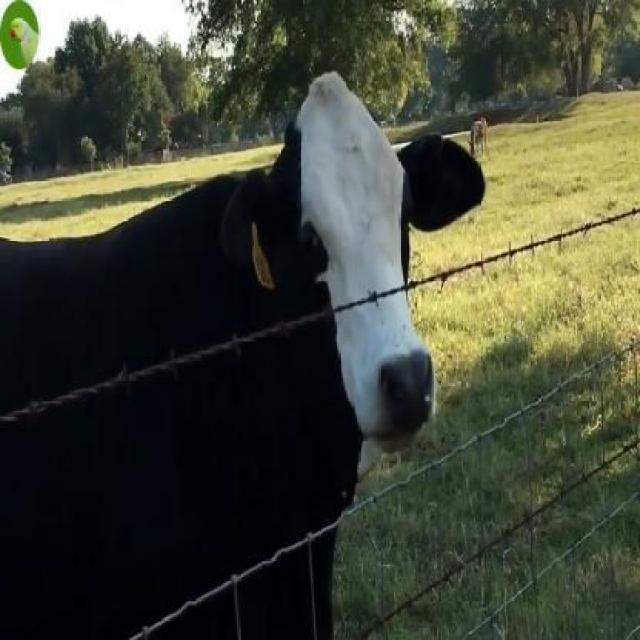Cow: (0, 74, 485, 638)
